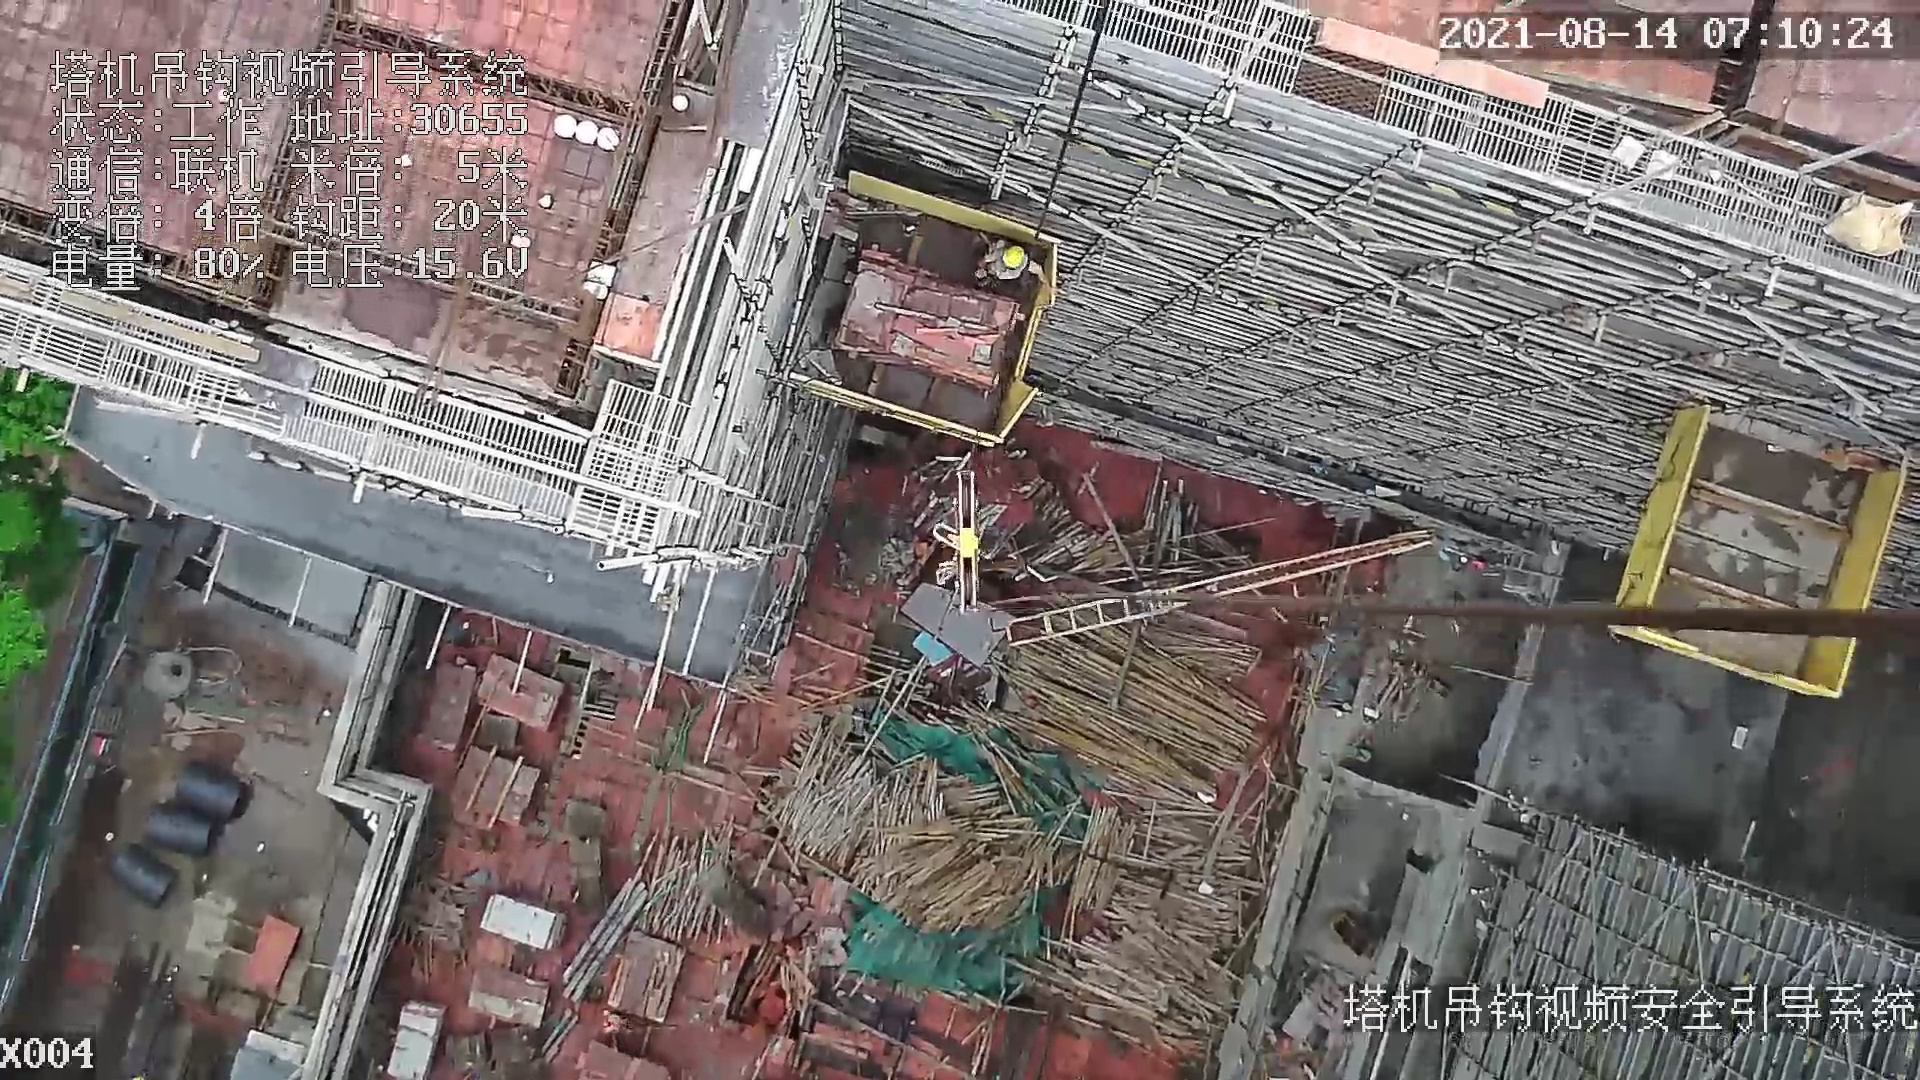helmet: (1005, 244, 1025, 272)
hook: (928, 462, 983, 614)
person: (972, 233, 1058, 297), (598, 1008, 633, 1037)
